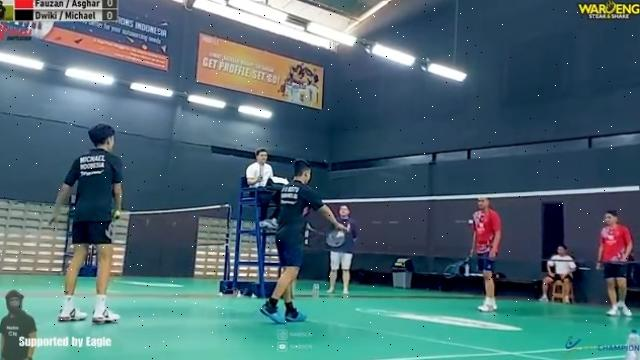Shuttlecock: (334, 228, 346, 242)
